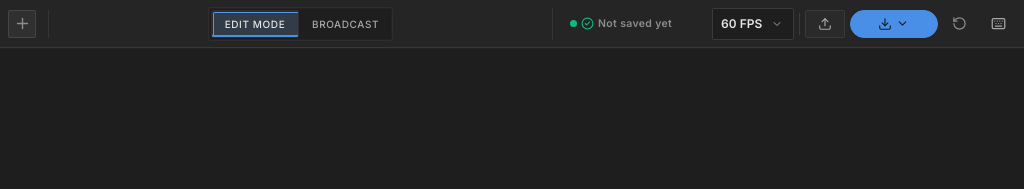
HeaderBar OGraf export integration › prevents duplicate concurrent exports while preparation is active
This screenshot has width=1024, height=189.
Click the button named "Export": (894, 24) [850,10,938,38]
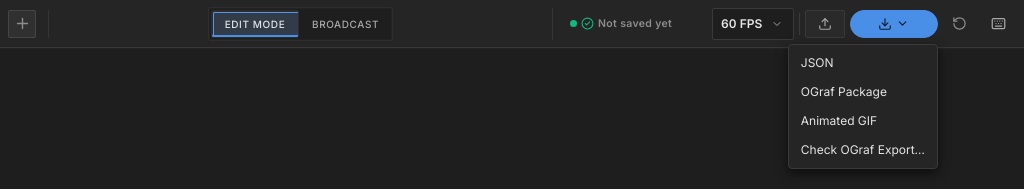
Click the menu item "OGraf Package": (863, 92) [793,78,933,106]
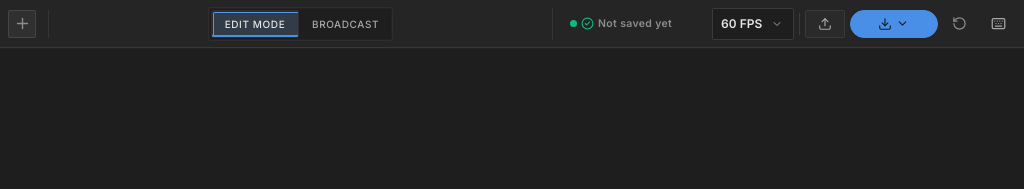
Click the button named "Export": (894, 24) [850,10,938,38]
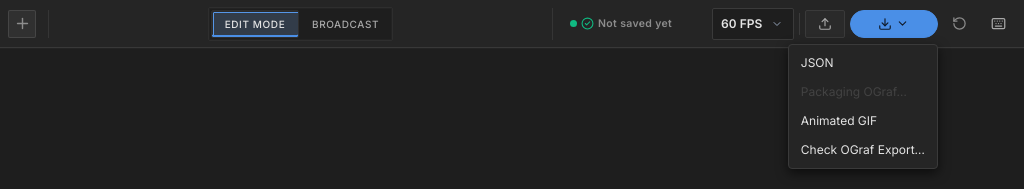
Result: the menu item "Packaging OGraf…" is shown
Click the menu item "Packaging OGraf…": (863, 92) [793,78,933,106]
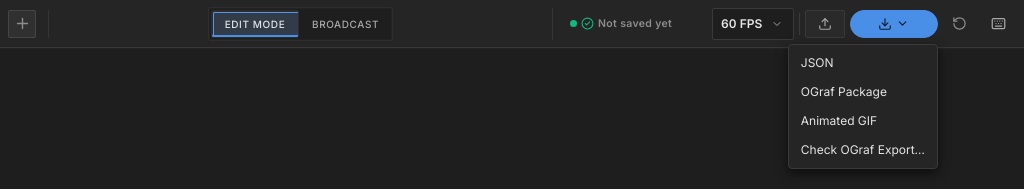
Result: the menu item "OGraf Package" is enabled at [793,78,933,106]
